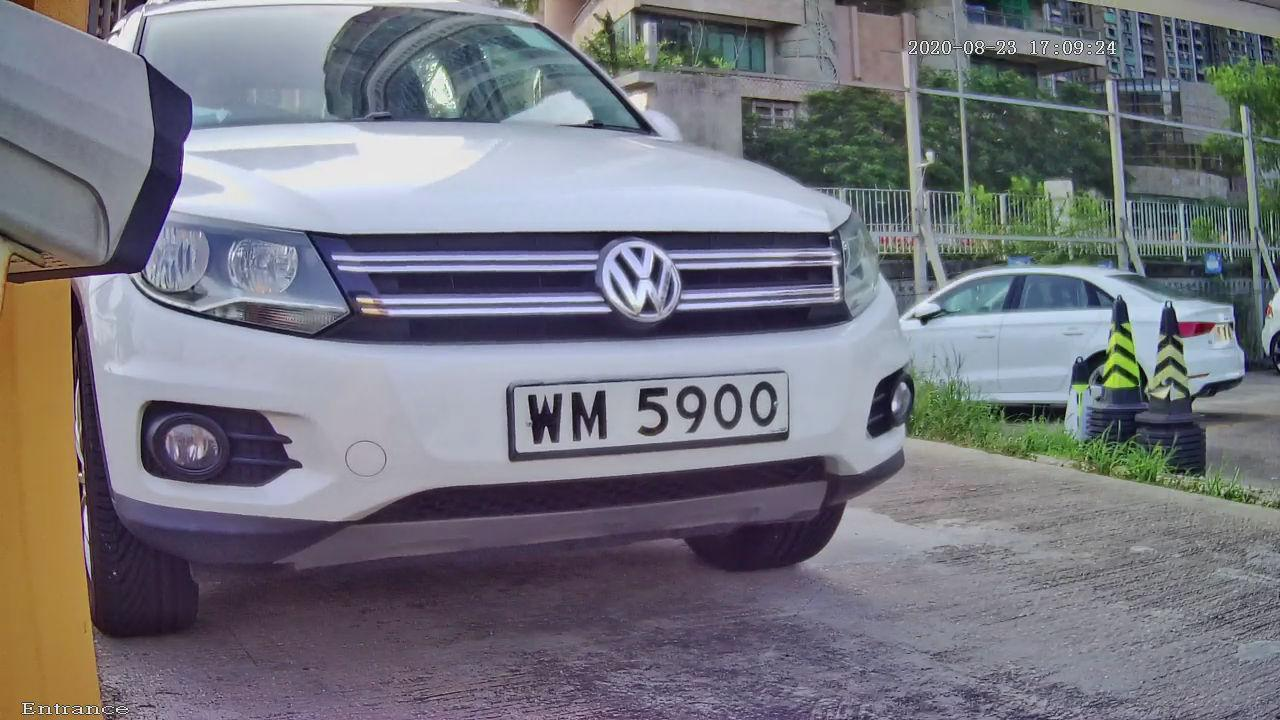Car: (1, 13, 1052, 627)
License Plate: (429, 311, 859, 507)
